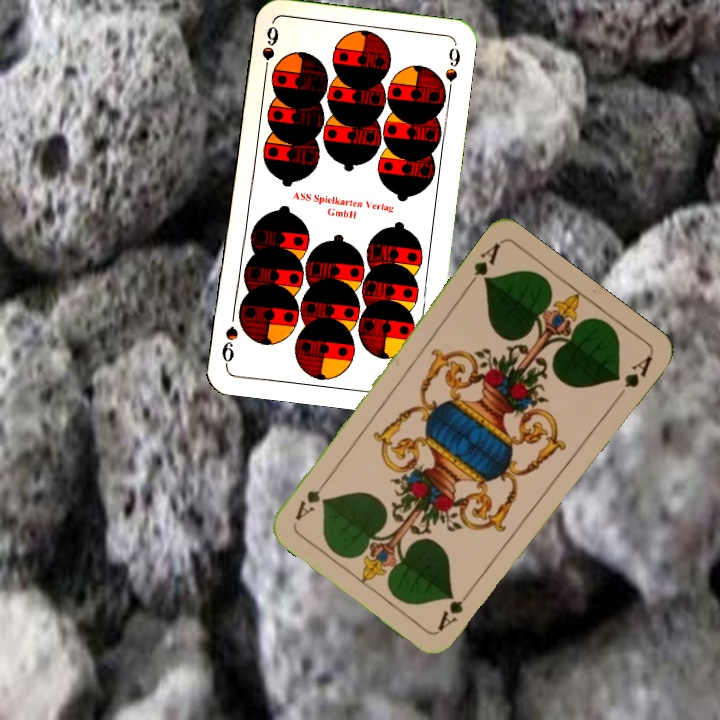GA: (433, 582, 477, 634), (462, 239, 503, 291)
S9: (258, 22, 282, 81)
